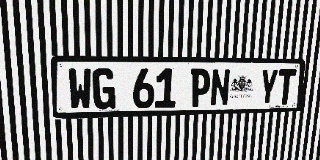1: (155, 68, 176, 108)
6: (133, 68, 155, 108)
G: (92, 68, 115, 110)
N: (210, 69, 231, 106)
P: (190, 69, 211, 107)
T: (276, 69, 296, 105)
W: (67, 68, 92, 110)
Y: (258, 69, 279, 105)
